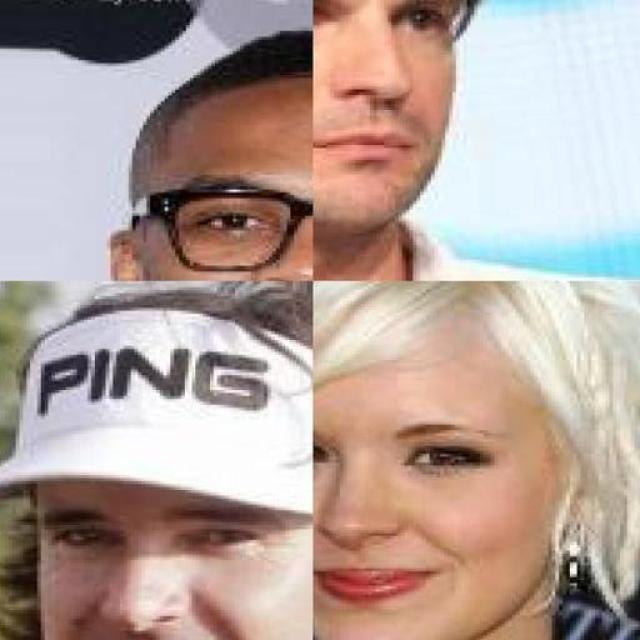bareface: (309, 307, 628, 640)
